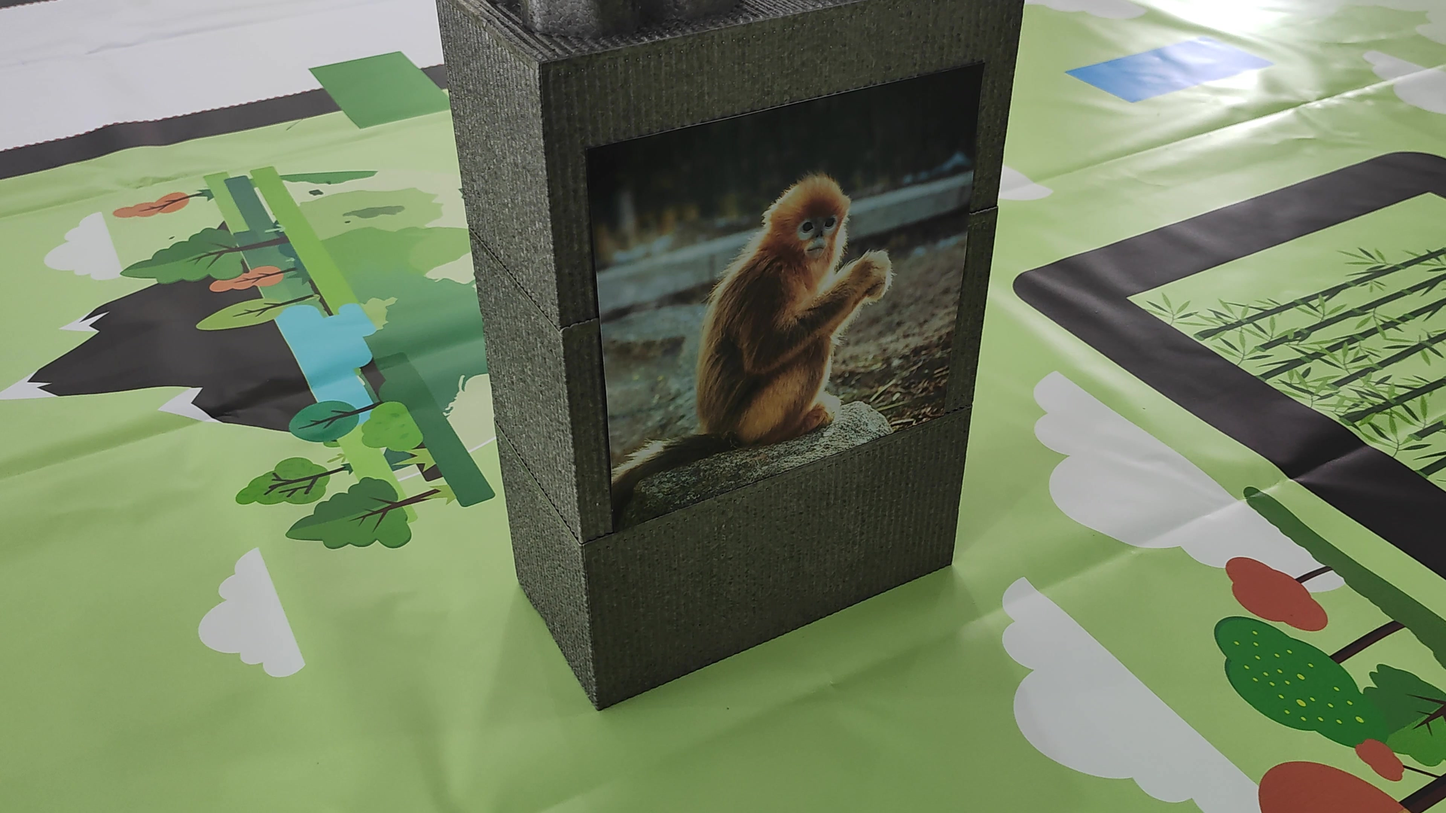monkey: (619, 149, 938, 450)
